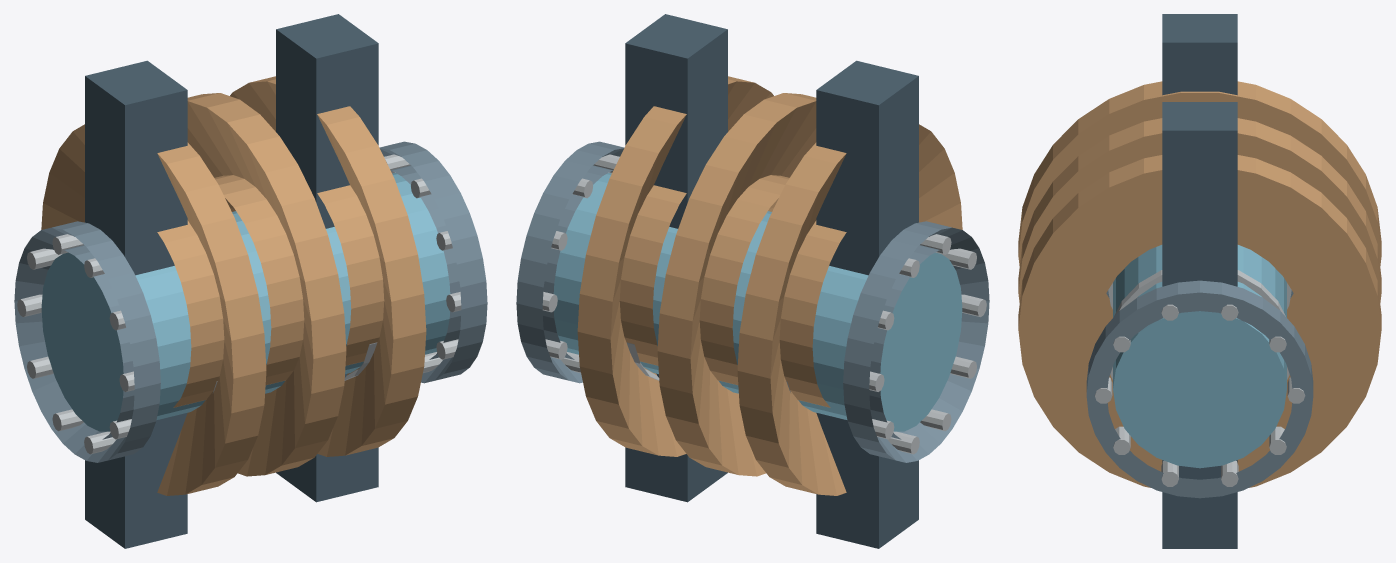
Rendered from 10_L75_BeamEnergySelectionModule.glb.
3 renders of one model, left to right at view 1: azimuth 30°, elevation 25°; view 2: azimuth 150°, elevation 25°; view 3: azimuth 270°, elevation 25°, orthographic. The views are drawn at different scales.
Visible parts, largest first — view 1: BeamEnergySelectionModule_Node_0026, BeamEnergySelectionModule_Node_0025, BeamEnergySelectionModule_Node_0028, BeamEnergySelectionModule_Node_0027, BeamEnergySelectionModule_Node_0000, BeamEnergySelectionModule_Node_0029, BeamEnergySelectionModule_Node_0001, BeamEnergySelectionModule_Node_0012; view 2: BeamEnergySelectionModule_Node_0026, BeamEnergySelectionModule_Node_0025, BeamEnergySelectionModule_Node_0028, BeamEnergySelectionModule_Node_0027, BeamEnergySelectionModule_Node_0000, BeamEnergySelectionModule_Node_0029, BeamEnergySelectionModule_Node_0001, BeamEnergySelectionModule_Node_0012; view 3: BeamEnergySelectionModule_Node_0027, BeamEnergySelectionModule_Node_0000, BeamEnergySelectionModule_Node_0029, BeamEnergySelectionModule_Node_0012, BeamEnergySelectionModule_Node_0025, BeamEnergySelectionModule_Node_0026, BeamEnergySelectionModule_Node_0028, BeamEnergySelectionModule_Node_0024.
Part boxes in pixels (x1,y1,x2,y2): BeamEnergySelectionModule_Node_0026: [187, 93, 346, 476]; BeamEnergySelectionModule_Node_0025: [41, 124, 266, 495]; BeamEnergySelectionModule_Node_0028: [85, 60, 187, 548]; BeamEnergySelectionModule_Node_0027: [225, 76, 426, 456]; BeamEnergySelectionModule_Node_0000: [41, 173, 450, 431]; BeamEnergySelectionModule_Node_0029: [276, 14, 378, 502]; BeamEnergySelectionModule_Node_0001: [14, 221, 160, 462]; BeamEnergySelectionModule_Node_0012: [379, 141, 487, 383]; BeamEnergySelectionModule_Node_0026: [657, 93, 816, 476]; BeamEnergySelectionModule_Node_0025: [737, 124, 962, 495]; BeamEnergySelectionModule_Node_0028: [816, 60, 918, 548]; BeamEnergySelectionModule_Node_0027: [577, 76, 778, 456]; BeamEnergySelectionModule_Node_0000: [553, 173, 962, 431]; BeamEnergySelectionModule_Node_0029: [625, 14, 727, 502]; BeamEnergySelectionModule_Node_0001: [843, 221, 989, 462]; BeamEnergySelectionModule_Node_0012: [516, 141, 624, 383]; BeamEnergySelectionModule_Node_0027: [1018, 155, 1381, 487]; BeamEnergySelectionModule_Node_0000: [1113, 245, 1286, 468]; BeamEnergySelectionModule_Node_0029: [1162, 102, 1237, 548]; BeamEnergySelectionModule_Node_0012: [1086, 280, 1313, 498]; BeamEnergySelectionModule_Node_0025: [1018, 81, 1381, 326]; BeamEnergySelectionModule_Node_0026: [1018, 118, 1381, 337]; BeamEnergySelectionModule_Node_0028: [1162, 14, 1237, 95]; BeamEnergySelectionModule_Node_0024: [1110, 270, 1289, 379].
Bounding box in the file's own units: 1.02 × 1.22 × 0.96.
